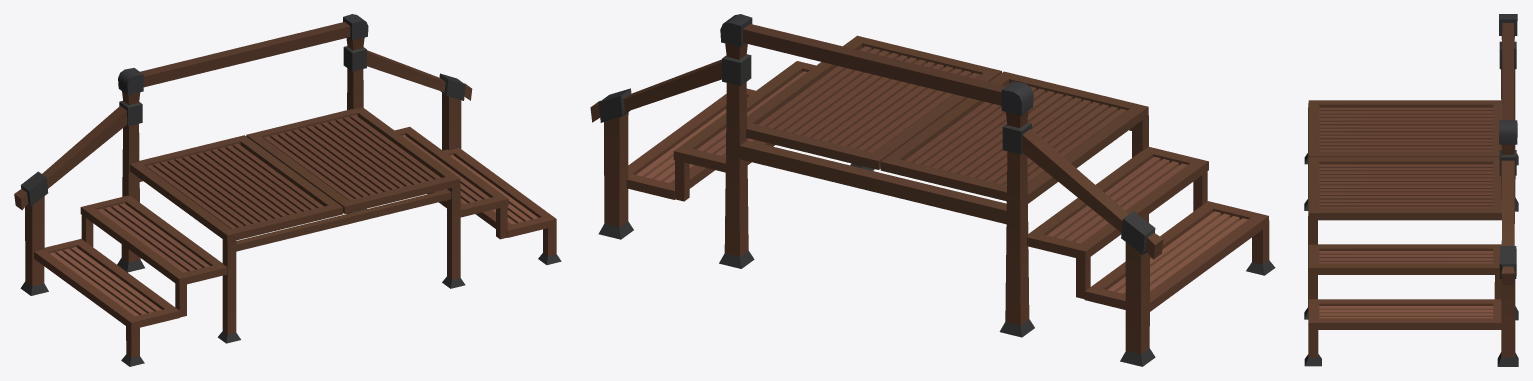
The model's file is Stairs_1_E.fbx.
3 renders of one model, left to right at view 1: azimuth 30°, elevation 25°; view 2: azimuth 150°, elevation 25°; view 3: azimuth 270°, elevation 25°, orthographic. The views are drawn at different scales.
Parts seen in each view (by area): view 1: Stairs_1_E; view 2: Stairs_1_E; view 3: Stairs_1_E.
Boxes of the visible parts, x1,y1,x2,y2 form: Stairs_1_E: (14, 14, 561, 366); Stairs_1_E: (590, 14, 1275, 366); Stairs_1_E: (1304, 14, 1518, 366).
Bounding box in the file's own units: 307 × 126 × 127.
